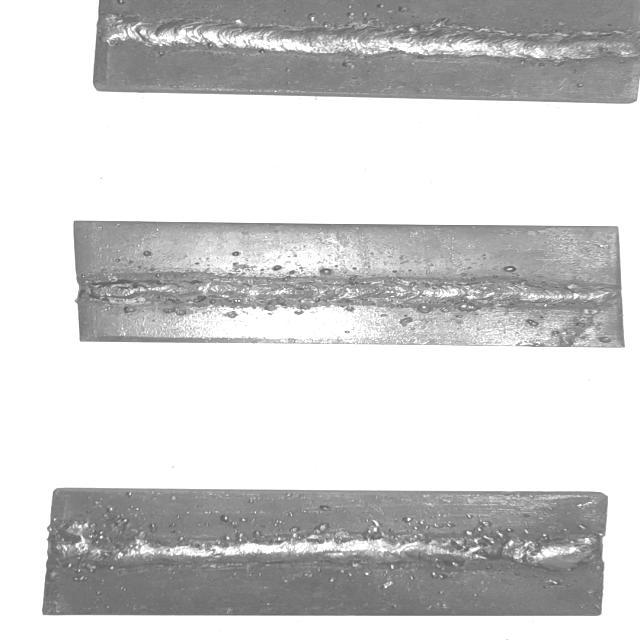Defect: (49, 518, 153, 582), (80, 272, 165, 314), (520, 311, 614, 347), (466, 524, 536, 570)
Welding Line: (104, 18, 637, 62), (59, 532, 606, 572), (84, 275, 616, 313)
Workpiece: (40, 484, 616, 618), (68, 216, 632, 352), (91, 0, 640, 108)
